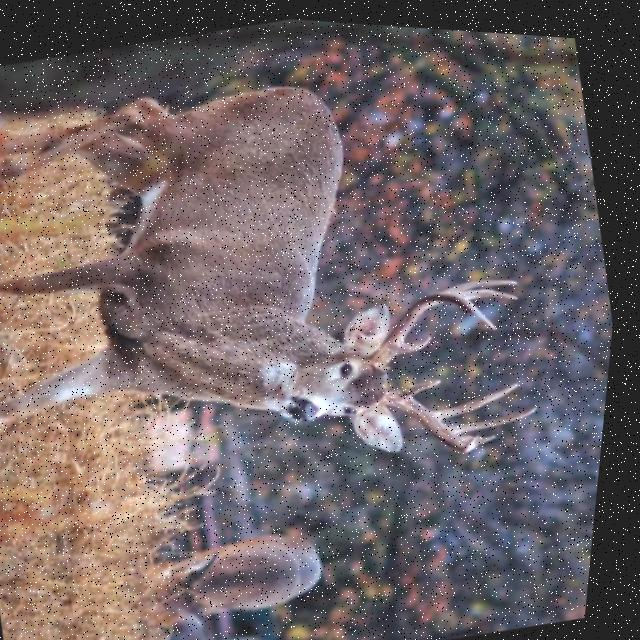L-F: (374, 285, 503, 363)
L-G1: (405, 327, 438, 347)
R-F: (384, 382, 487, 445)
R-G1: (406, 370, 449, 388)
R-G2: (439, 373, 527, 412)
R-G3: (455, 397, 545, 426)
